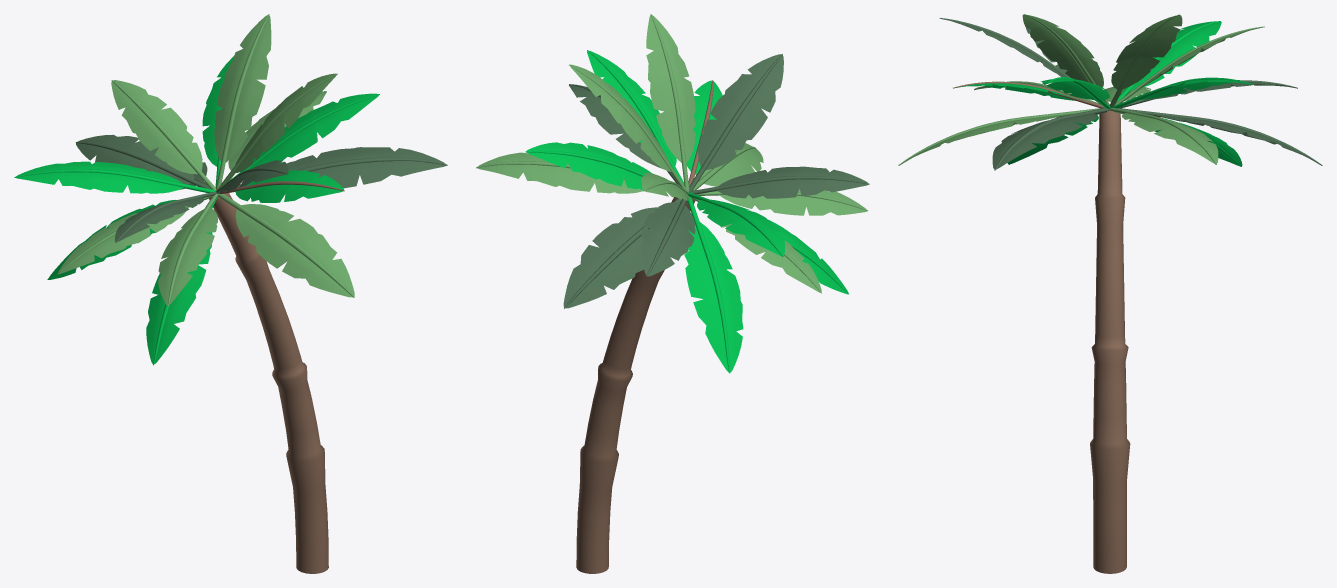
Rendered from tree_test_2.fbx.
3 renders of one model, left to right at view 1: azimuth 30°, elevation 25°; view 2: azimuth 150°, elevation 25°; view 3: azimuth 270°, elevation 25°, orthographic. The views are drawn at different scales.
Parts seen in each view (by area): view 1: Tree; view 2: Tree; view 3: Tree.
Part boxes in pixels (left/top/right/bottom): Tree: left=14, top=14, right=447, bottom=573; Tree: left=476, top=14, right=869, bottom=573; Tree: left=898, top=14, right=1322, bottom=573.
Bounding box in the file's own units: 522 × 818 × 575.
